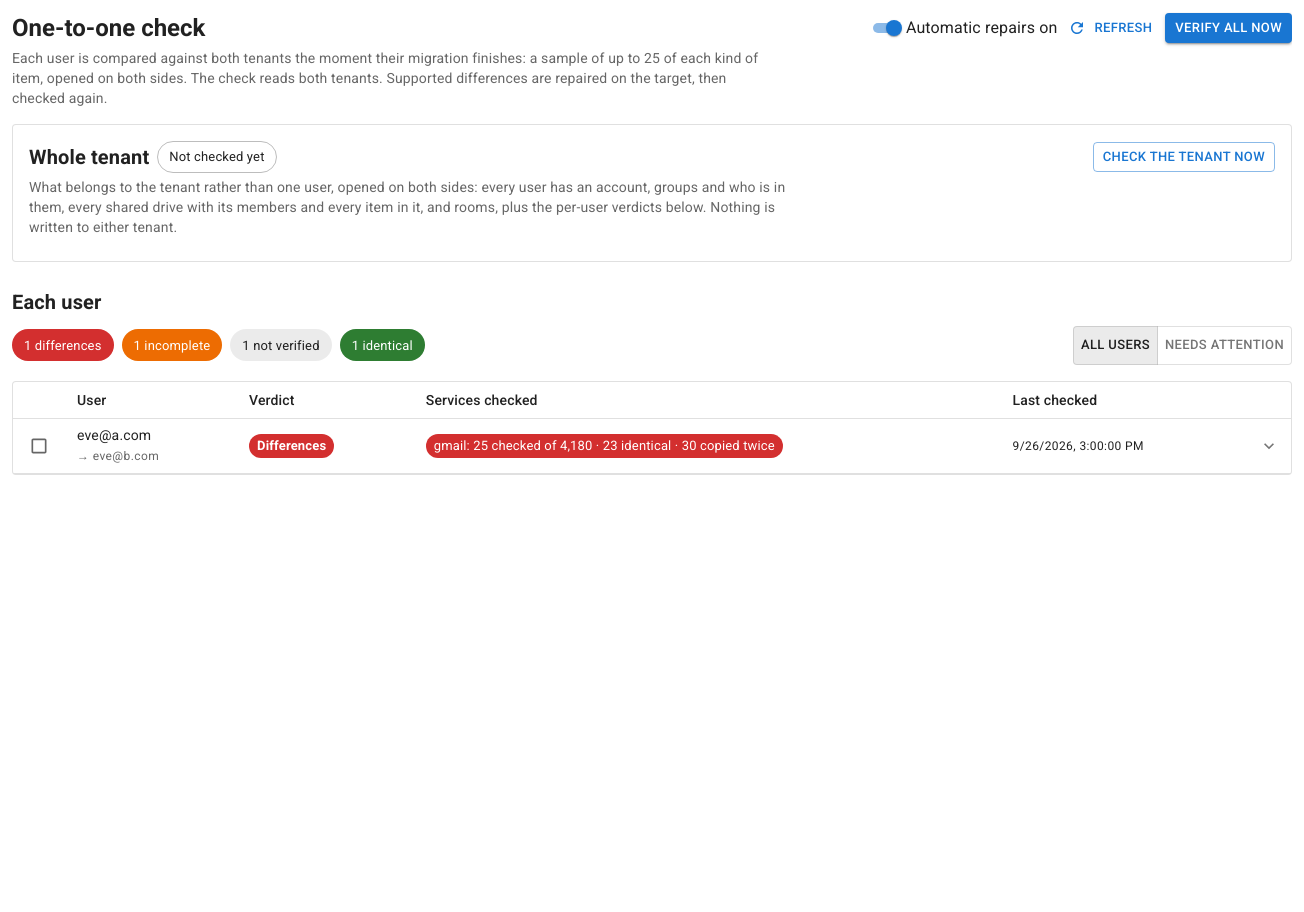
Scenario: what is found › lists a copy made twice, and says how many more there are
Click the button named "show eve@a.com": (1269, 446) [1259,436,1279,456]
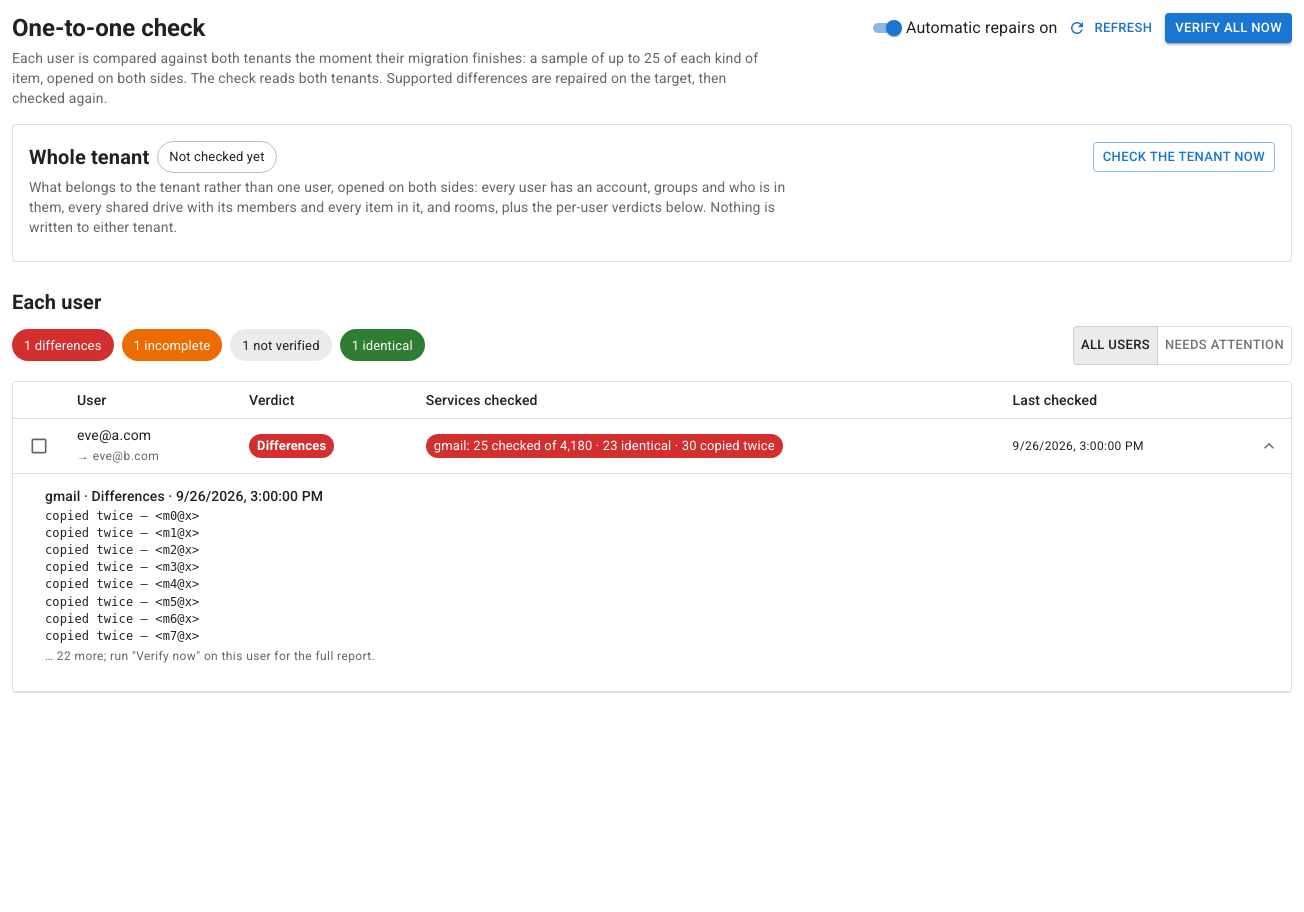
Expected: the text "copied twice — <m0@x>" is shown, [45,509,199,523]
Expected: the text "… 22 more; run" is shown, [45,649,375,663]
